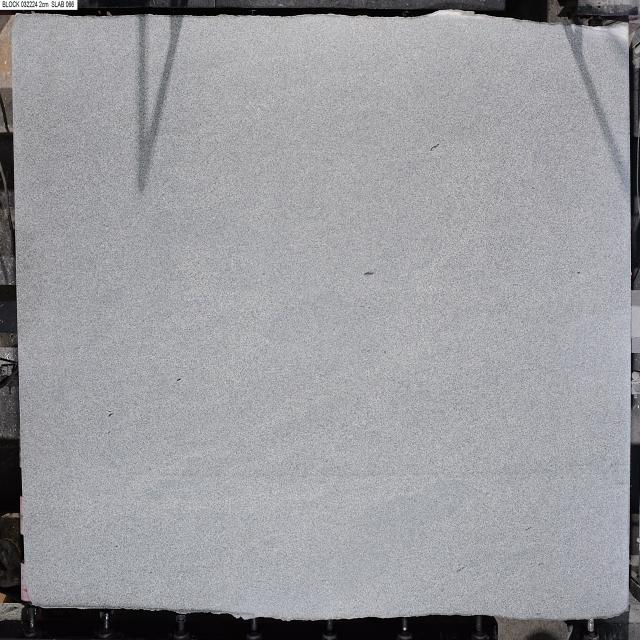chapa: (12, 12, 630, 619)
